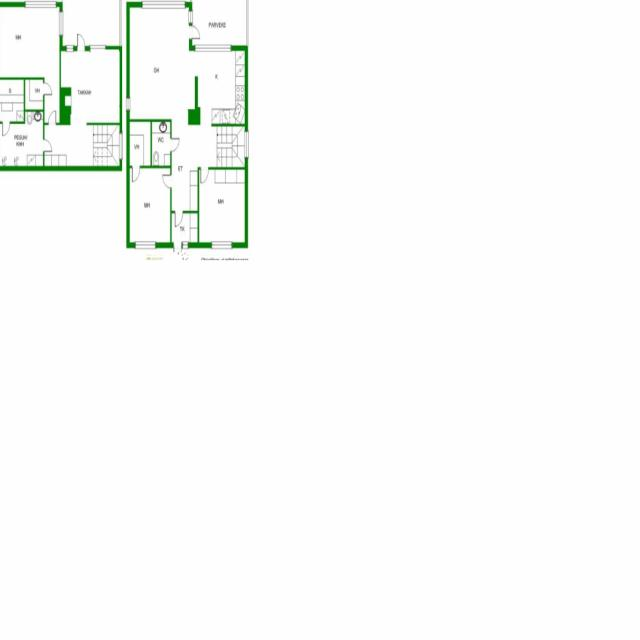door: (173, 243, 182, 261), (189, 26, 200, 39), (162, 175, 172, 188), (175, 211, 183, 226), (43, 139, 52, 152), (77, 35, 84, 51), (132, 166, 140, 180), (43, 82, 52, 94), (170, 139, 179, 151), (48, 112, 56, 125), (201, 168, 208, 182), (2, 122, 10, 134)
